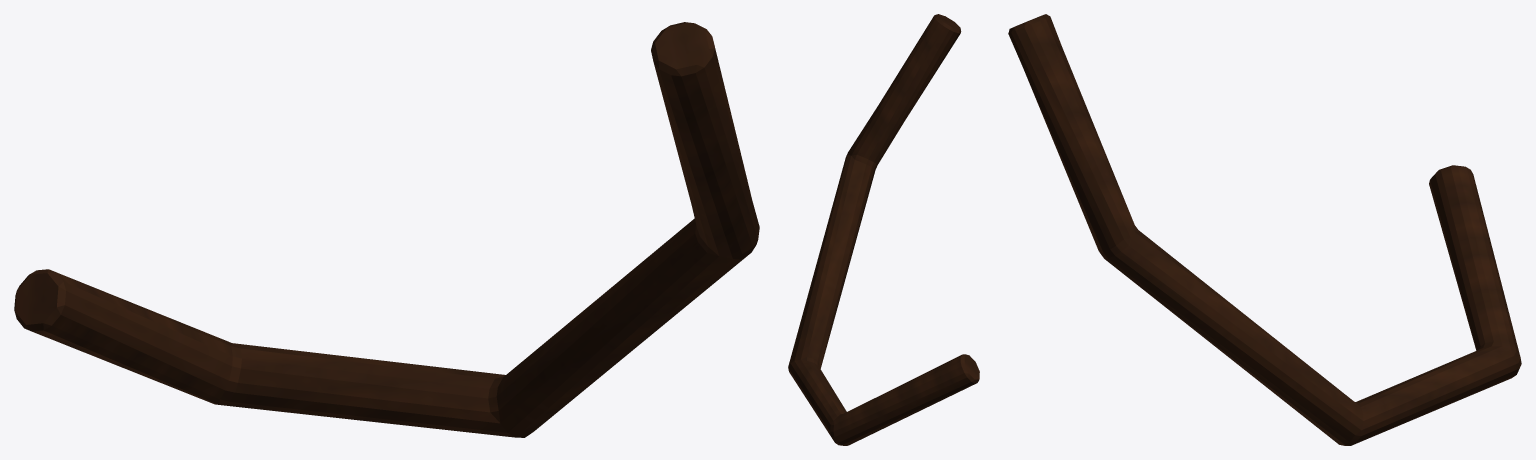
The model's file is WardenHose.glb.
The picture shows the model from 3 angles, left to right: view 1: azimuth 30°, elevation 25°; view 2: azimuth 150°, elevation 25°; view 3: azimuth 270°, elevation 25°; orthographic projection. The views are drawn at different scales.
Visible parts, largest first — view 1: Flexible hose; view 2: Flexible hose; view 3: Flexible hose.
Part boxes in pixels (x1,y1,x2,y2): Flexible hose: [14, 22, 759, 437]; Flexible hose: [788, 14, 979, 445]; Flexible hose: [1008, 14, 1521, 445].
Size of the model in its own units: 0.403 by 0.4517 by 0.5104.
Materials: 1 (1 with a texture image).
